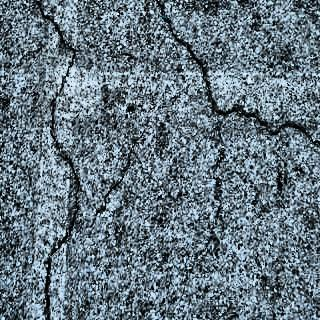crack: (218, 104, 320, 142), (154, 1, 213, 58), (49, 98, 80, 184), (208, 116, 227, 250), (35, 1, 79, 54), (196, 50, 227, 119), (56, 176, 84, 249), (42, 240, 64, 320), (53, 47, 78, 101), (94, 192, 108, 224), (106, 177, 123, 199), (88, 205, 97, 242)
